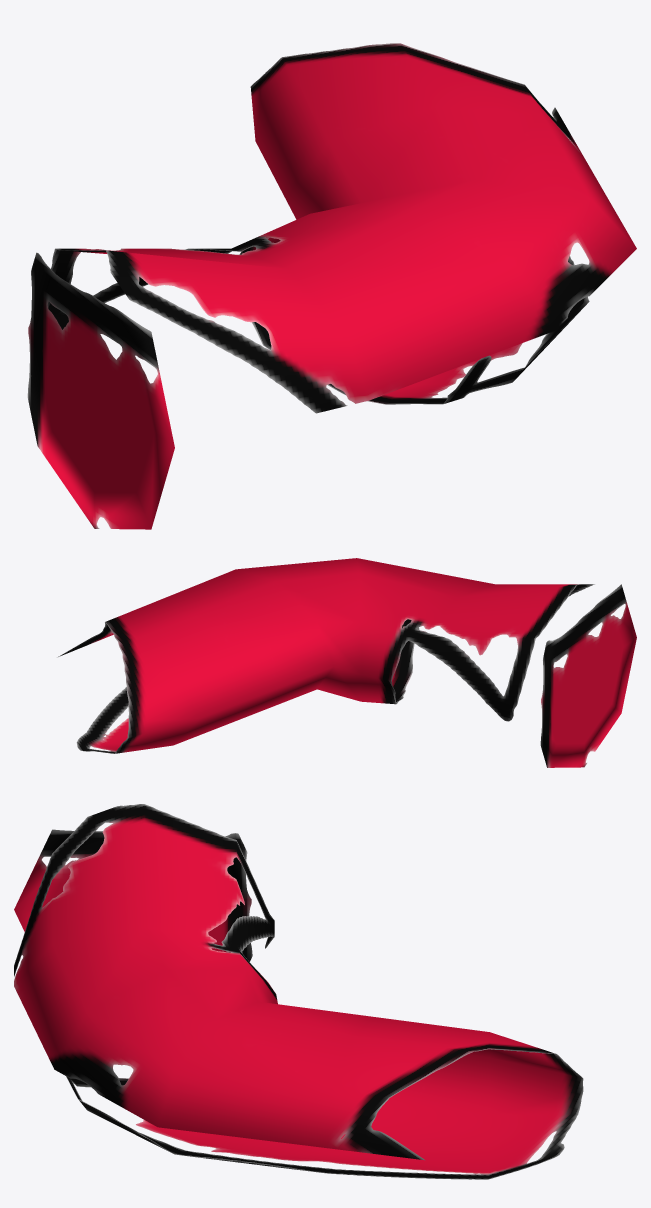
The model's file is sock.fbx.
3 views of the same model, one above another, from view 1: azimuth 30°, elevation 25°; view 2: azimuth 150°, elevation 25°; view 3: azimuth 270°, elevation 25° (orthographic). The views are drawn at different scales.
Visible parts, largest first — view 1: sock; view 2: sock; view 3: sock.
Part boxes in pixels (box(x1,y1,x2,y2)): sock: box(27, 43, 636, 529); sock: box(57, 558, 636, 767); sock: box(14, 804, 583, 1179).
Size of the model in its own units: 34.6 by 14.15 by 35.28.
